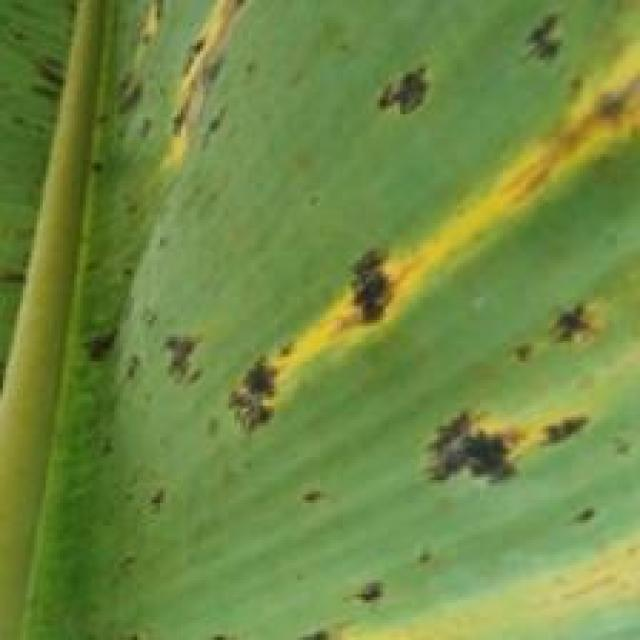Downey_mildrew: (215, 188, 640, 553), (0, 1, 260, 391), (328, 0, 640, 200), (88, 400, 198, 640), (208, 556, 499, 640)
